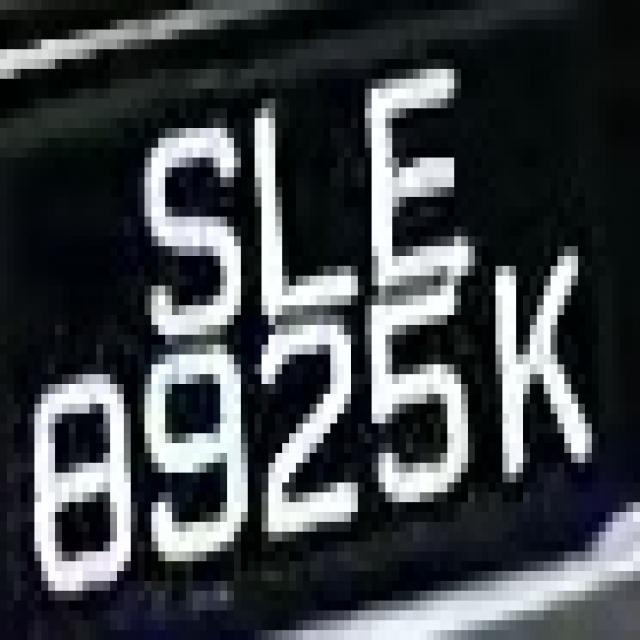2: (240, 325, 372, 561)
5: (365, 276, 468, 532)
8: (7, 374, 144, 620)
9: (138, 315, 248, 571)
E: (358, 39, 482, 286)
K: (475, 237, 592, 492)
L: (220, 59, 358, 355)
S: (110, 89, 241, 374)
